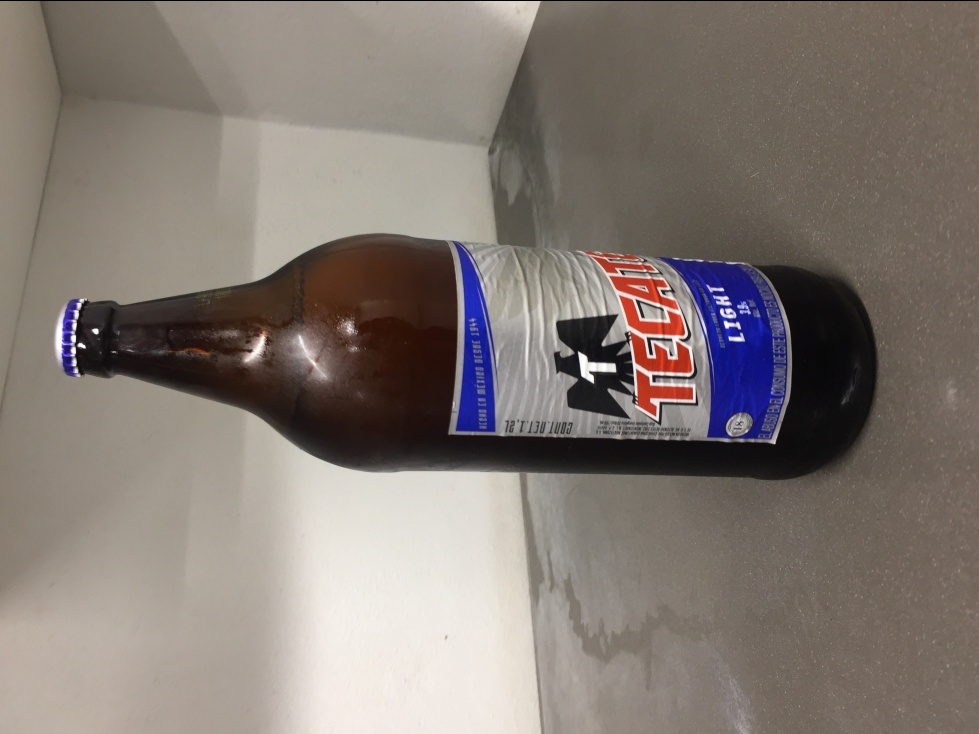tecateC: (46, 229, 882, 477)
